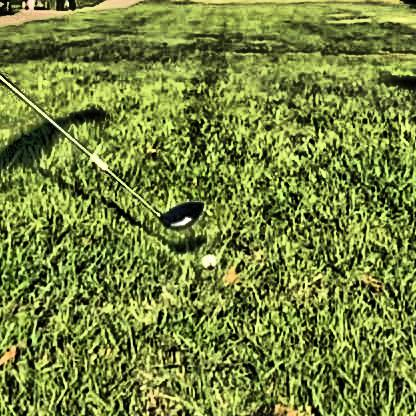golfball: (198, 251, 215, 266)
